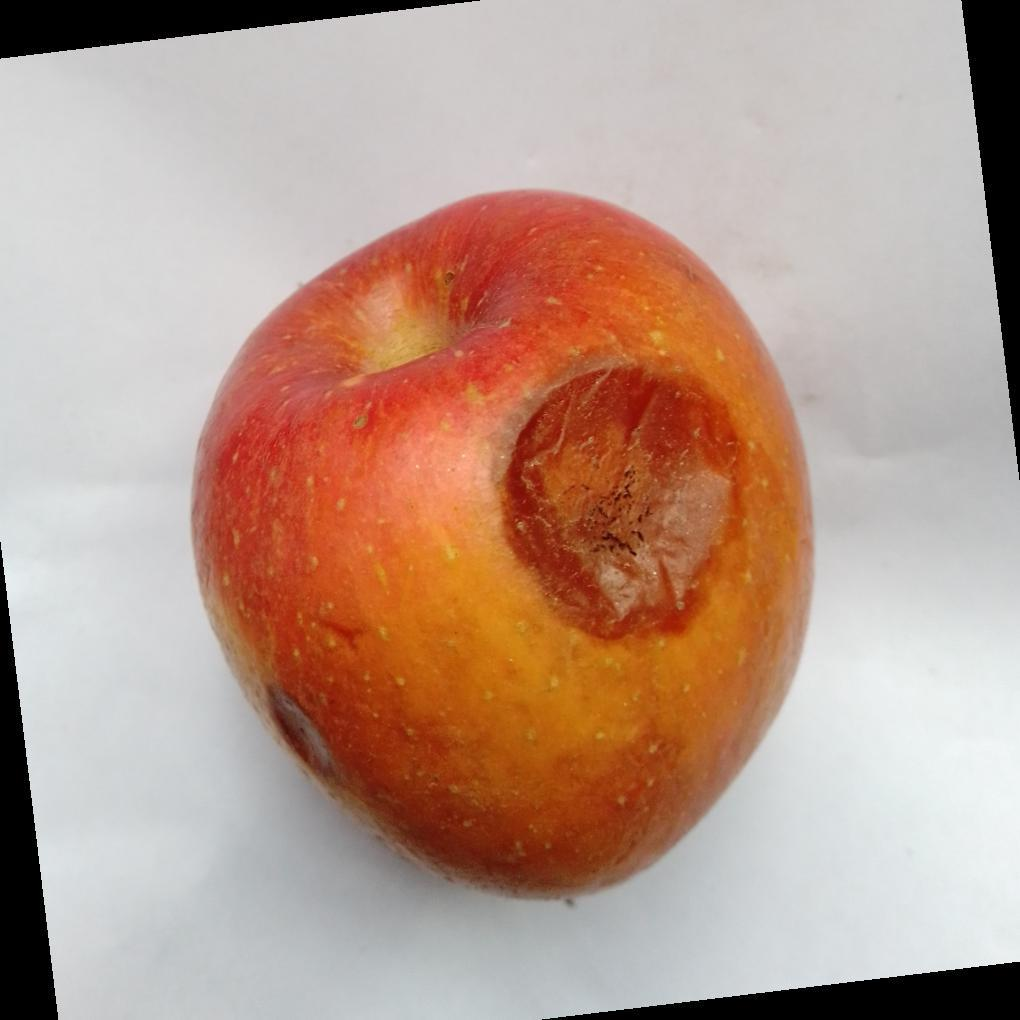FreshOrange: (189, 190, 816, 905)
